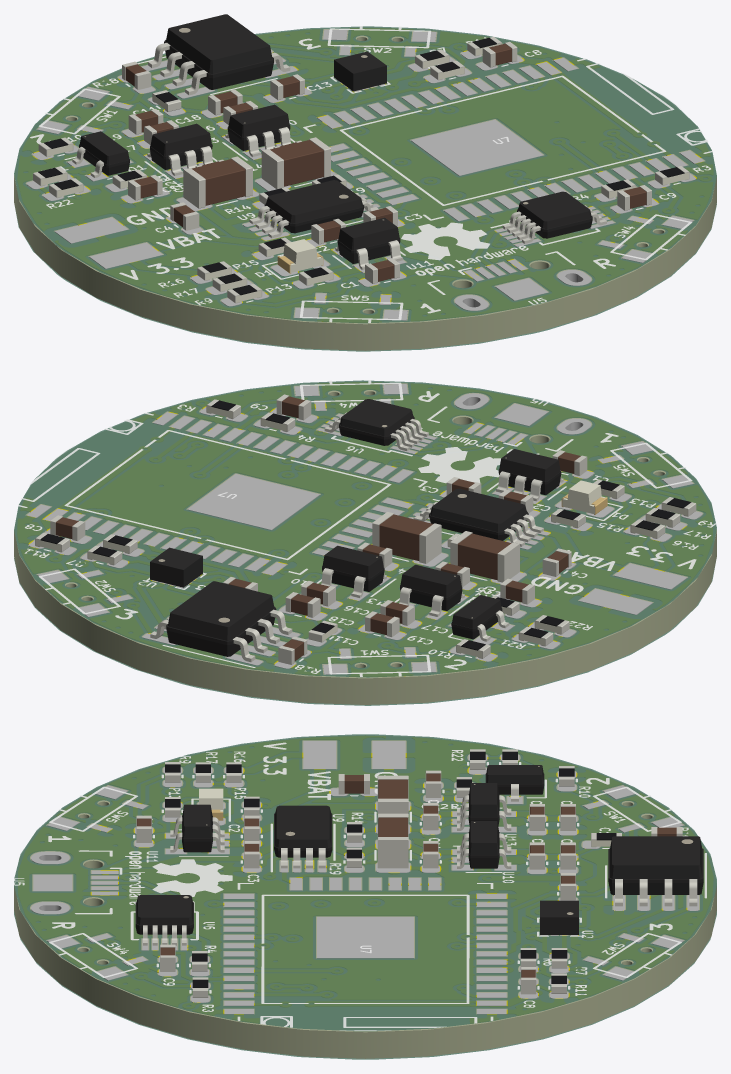
File: board.glb
The picture shows the model from 3 angles, top to bottom: view 1: azimuth 30°, elevation 25°; view 2: azimuth 150°, elevation 25°; view 3: azimuth 270°, elevation 25°; orthographic projection.
Parts seen in each view (by area): view 1: board_soldermask (×2), board_copper, board_PCB, board_pad, board_silkscreen, SOT-23-5 (×3), SOIC-8_3.9x4.9mm_P1.27mm, C_0603_1608Metric (×10), C_1206_3216Metric (×2), TSSOP-8_4.4x3mm_P0.65mm, MSOP-10_3x3mm_P0.5mm, SOT-23 (+2 smaller); view 2: board_soldermask (×2), board_copper, board_PCB, board_pad, board_silkscreen, SOT-23-5 (×3), SOIC-8_3.9x4.9mm_P1.27mm, C_0603_1608Metric (×10), C_1206_3216Metric (×2), TSSOP-8_4.4x3mm_P0.65mm, MSOP-10_3x3mm_P0.5mm, SOT-23 (+2 smaller); view 3: board_soldermask (×2), board_copper, board_PCB, board_pad, board_silkscreen, SOIC-8_3.9x4.9mm_P1.27mm, SOT-23-5 (×3), TSSOP-8_4.4x3mm_P0.65mm, C_1206_3216Metric (×2), MSOP-10_3x3mm_P0.5mm, SOT-23, LGA_12_2x2mm_P05mm (+2 smaller).
Boxes of the visible parts, x1,y1,x2,y2 form: board_soldermask (×2): (14, 26, 716, 351); board_copper: (18, 28, 712, 322); board_PCB: (14, 29, 716, 350); board_pad: (26, 29, 704, 320); board_silkscreen: (30, 26, 712, 322); SOT-23-5 (×3): (147, 104, 402, 269); SOIC-8_3.9x4.9mm_P1.27mm: (148, 14, 290, 95); C_0603_1608Metric (×10): (122, 41, 651, 283); C_1206_3216Metric (×2): (183, 137, 330, 208); TSSOP-8_4.4x3mm_P0.65mm: (249, 180, 378, 238); MSOP-10_3x3mm_P0.5mm: (502, 191, 606, 243); SOT-23: (72, 131, 129, 177); board_soldermask (×2): (14, 380, 716, 705); board_copper: (17, 382, 712, 676); board_PCB: (14, 382, 716, 704); board_pad: (26, 384, 702, 674); board_silkscreen: (18, 380, 716, 676); SOT-23-5 (×3): (321, 449, 563, 616); SOIC-8_3.9x4.9mm_P1.27mm: (150, 581, 292, 662); C_0603_1608Metric (×10): (50, 394, 587, 664); C_1206_3216Metric (×2): (372, 511, 519, 582); TSSOP-8_4.4x3mm_P0.65mm: (413, 488, 543, 546); MSOP-10_3x3mm_P0.5mm: (324, 399, 428, 450); SOT-23: (451, 595, 509, 641); board_soldermask (×2): (14, 734, 716, 1059); board_copper: (18, 736, 712, 1023); board_PCB: (14, 736, 716, 1058); board_pad: (31, 741, 698, 1014); board_silkscreen: (14, 742, 706, 1030); SOIC-8_3.9x4.9mm_P1.27mm: (608, 836, 703, 906); SOT-23-5 (×3): (170, 783, 511, 868); TSSOP-8_4.4x3mm_P0.65mm: (274, 805, 332, 868); C_1206_3216Metric (×2): (377, 775, 408, 868); MSOP-10_3x3mm_P0.5mm: (135, 895, 193, 945); SOT-23: (485, 765, 544, 801); LGA_12_2x2mm_P05mm: (540, 900, 578, 934).
Size of the model in its own units: 0.0361 by 0.00342 by 0.0361.
